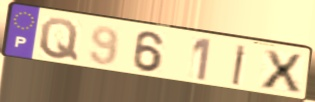1: (188, 36, 212, 83)
6: (132, 31, 168, 74)
9: (89, 24, 123, 67)
I: (230, 43, 249, 88)
Q: (38, 17, 80, 63)
X: (260, 48, 305, 95)
